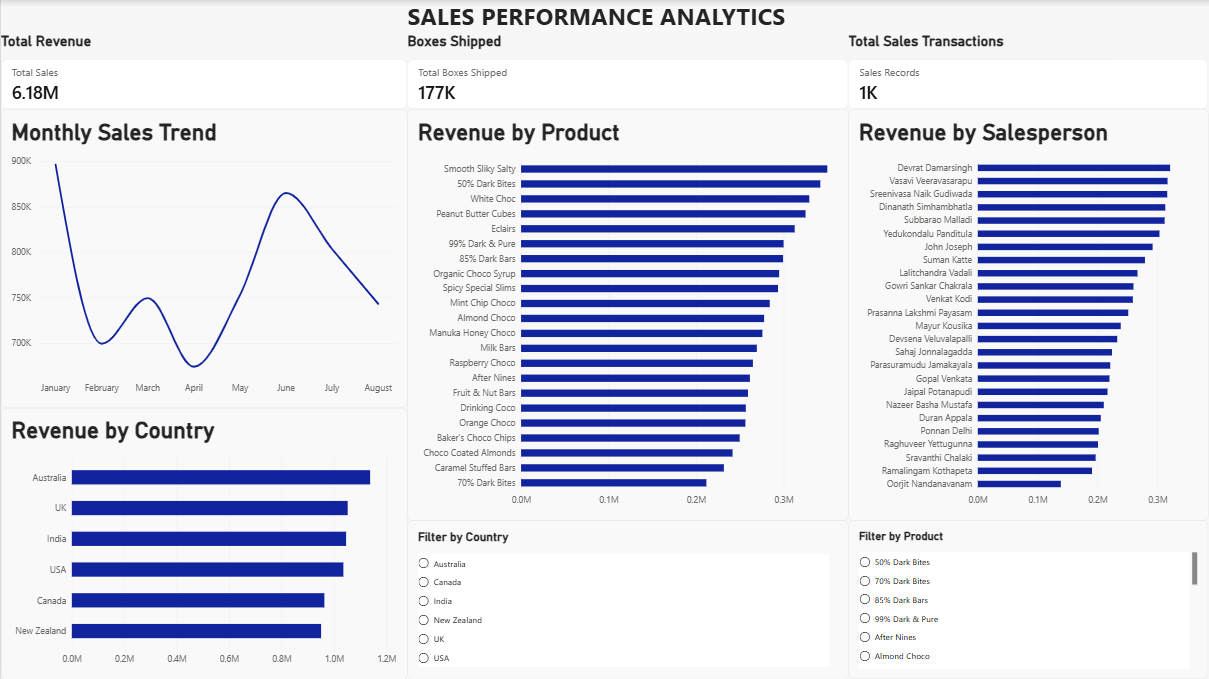

The dashboard page shown, as its layout file describes it:
{"tool":"powerbi","page":{"name":"Page 1","canvas":[1920,1080],"ordinal":0},"visuals":[{"type":"cardVisual","title":"Total Revenue","fields":{"Data":["data.Total Sales"]},"box":[0,52.5,646.6,121.7],"z":0},{"type":"cardVisual","title":"Boxes Shipped","fields":{"Data":["data.Total Boxes Shipped"]},"box":[646.6,52.5,701.5,121.7],"z":1000},{"type":"cardVisual","title":"Total Sales Transactions","fields":{"Data":["data.Sales Records"]},"box":[1348,52.5,572.6,121.7],"z":2000},{"type":"lineChart","title":"Monthly Sales Trend","fields":{"Category":["data.Date.Variation.Date Hierarchy.Month"],"Y":["data.Total Sales"]},"box":[0,174.2,646.6,474.8],"z":3000},{"type":"clusteredBarChart","title":"Revenue by Country","fields":{"Category":["data.Country"],"Y":["data.Total Sales"]},"box":[0,649,646.6,431.9],"z":4000},{"type":"clusteredBarChart","title":"Revenue by Product","fields":{"Category":["data.Product"],"Y":["data.Total Sales"]},"box":[646.6,174.2,701.5,653.7],"z":5000},{"type":"clusteredBarChart","title":"Revenue by Salesperson","fields":{"Category":["data.Sales Person"],"Y":["data.Total Sales"]},"box":[1348,174.2,572.6,653.7],"z":6000},{"type":"listSlicer","title":"Filter by Country","fields":{"Values":["data.Country"]},"box":[646.6,827.9,701.5,252.9],"z":6001},{"type":"listSlicer","title":"Filter by Product","fields":{"Values":["data.Product"]},"box":[1348,828,572,252],"z":6002},{"type":"textbox","box":[577.4,0,739.6,52.5],"z":6003}]}

Visuals, with their boxes in screenshot pixels (x1, y1, x2, y2), scaled from the page's 1920x1080 canvas onto the 1209x679 screenshot:
"Total Revenue" cardVisual: <region>0, 33, 407, 110</region>
"Boxes Shipped" cardVisual: <region>407, 33, 849, 110</region>
"Total Sales Transactions" cardVisual: <region>849, 33, 1208, 110</region>
"Monthly Sales Trend" lineChart: <region>0, 110, 407, 408</region>
"Revenue by Country" clusteredBarChart: <region>0, 408, 407, 678</region>
"Revenue by Product" clusteredBarChart: <region>407, 110, 849, 521</region>
"Revenue by Salesperson" clusteredBarChart: <region>849, 110, 1208, 521</region>
"Filter by Country" listSlicer: <region>407, 521, 849, 678</region>
"Filter by Product" listSlicer: <region>849, 521, 1208, 678</region>
textbox: <region>364, 0, 829, 33</region>
